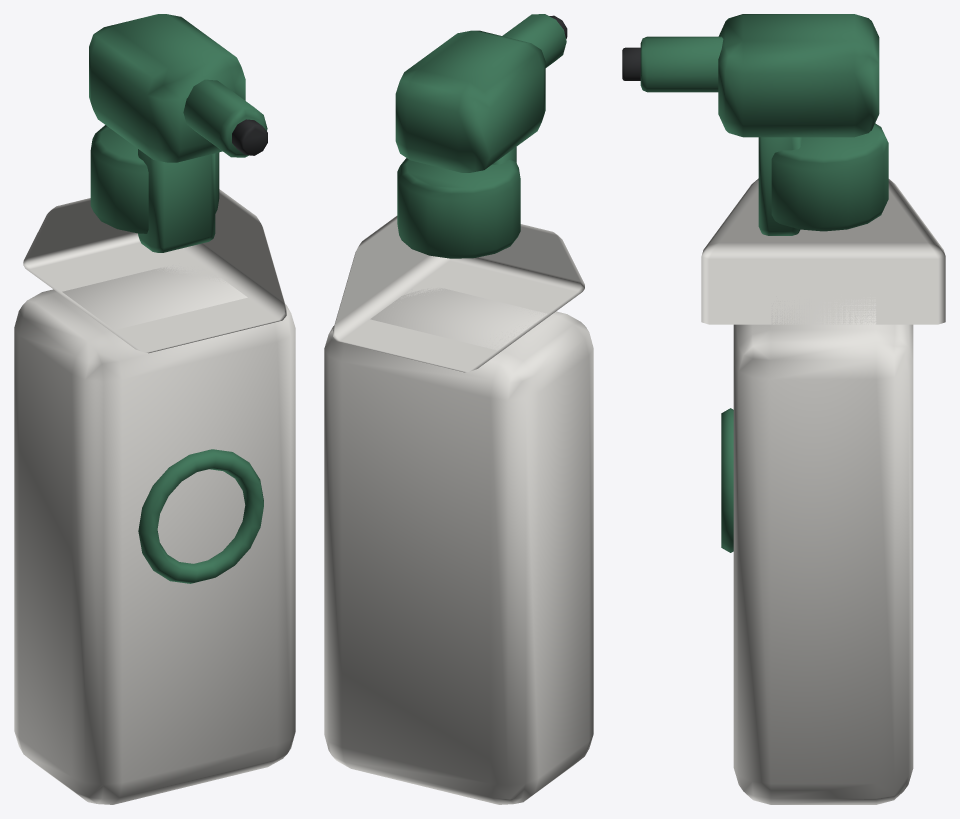
The model's file is asset_076_cleaning_spray_bottle_fp.glb.
3 renders of one model, left to right at view 1: azimuth 30°, elevation 25°; view 2: azimuth 150°, elevation 25°; view 3: azimuth 270°, elevation 25°, orthographic. The views are drawn at different scales.
Parts seen in each view (by area): view 1: MESH_SprayBody, MESH_SprayShoulder, MESH_SprayHead, MESH_SprayBrandRing, MESH_SprayTriggerBlade, MESH_SprayCollar, MESH_SprayNozzle, MESH_SprayNozzleTip; view 2: MESH_SprayBody, MESH_SprayShoulder, MESH_SprayHead, MESH_SprayCollar, MESH_SprayNozzle; view 3: MESH_SprayBody, MESH_SprayShoulder, MESH_SprayHead, MESH_SprayCollar, MESH_SprayNozzle, MESH_SprayTriggerBlade, MESH_SprayBrandRing, MESH_SprayNozzleTip.
Boxes of the visible parts, x1=… form: MESH_SprayBody: x1=14, y1=265, x2=295, y2=804; MESH_SprayShoulder: x1=23, y1=189, x2=286, y2=353; MESH_SprayHead: x1=89, y1=14, x2=245, y2=162; MESH_SprayBrandRing: x1=138, y1=449, x2=263, y2=583; MESH_SprayTriggerBlade: x1=138, y1=149, x2=215, y2=252; MESH_SprayCollar: x1=90, y1=125, x2=219, y2=233; MESH_SprayNozzle: x1=183, y1=79, x2=267, y2=157; MESH_SprayNozzleTip: x1=232, y1=119, x2=267, y2=155; MESH_SprayBody: x1=324, y1=288, x2=593, y2=804; MESH_SprayShoulder: x1=333, y1=216, x2=584, y2=372; MESH_SprayHead: x1=395, y1=30, x2=545, y2=172; MESH_SprayCollar: x1=397, y1=158, x2=520, y2=258; MESH_SprayNozzle: x1=502, y1=14, x2=566, y2=67; MESH_SprayBody: x1=733, y1=296, x2=913, y2=804; MESH_SprayShoulder: x1=701, y1=178, x2=945, y2=324; MESH_SprayHead: x1=718, y1=14, x2=879, y2=137; MESH_SprayCollar: x1=771, y1=123, x2=888, y2=231; MESH_SprayNozzle: x1=640, y1=36, x2=723, y2=92; MESH_SprayTriggerBlade: x1=758, y1=137, x2=801, y2=235; MESH_SprayBrandRing: x1=721, y1=408, x2=733, y2=552; MESH_SprayNozzleTip: x1=622, y1=47, x2=640, y2=80.
Bounding box in the file's own units: 0.082 × 0.262 × 0.1044.
